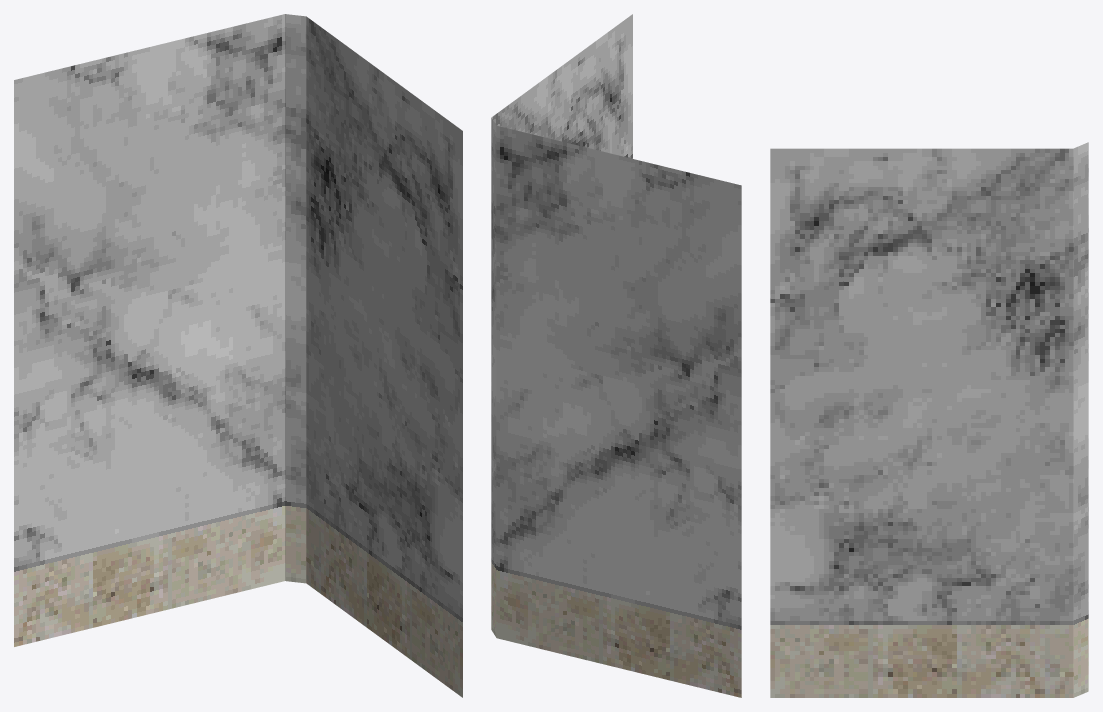
File: wallTurnMarble.glb
3 renders of one model, left to right at view 1: azimuth 30°, elevation 25°; view 2: azimuth 150°, elevation 25°; view 3: azimuth 270°, elevation 25°, orthographic. The views are drawn at different scales.
Visible parts, largest first — view 1: wallTurnMarble; view 2: wallTurnMarble; view 3: wallTurnMarble.
Part boxes in pixels (x1,y1,x2,y2): wallTurnMarble: [14, 14, 462, 697]; wallTurnMarble: [491, 14, 741, 697]; wallTurnMarble: [770, 142, 1088, 697].
Bounding box in the file's own units: 2.1 × 4 × 2.1.
1 material, 1 textured.
